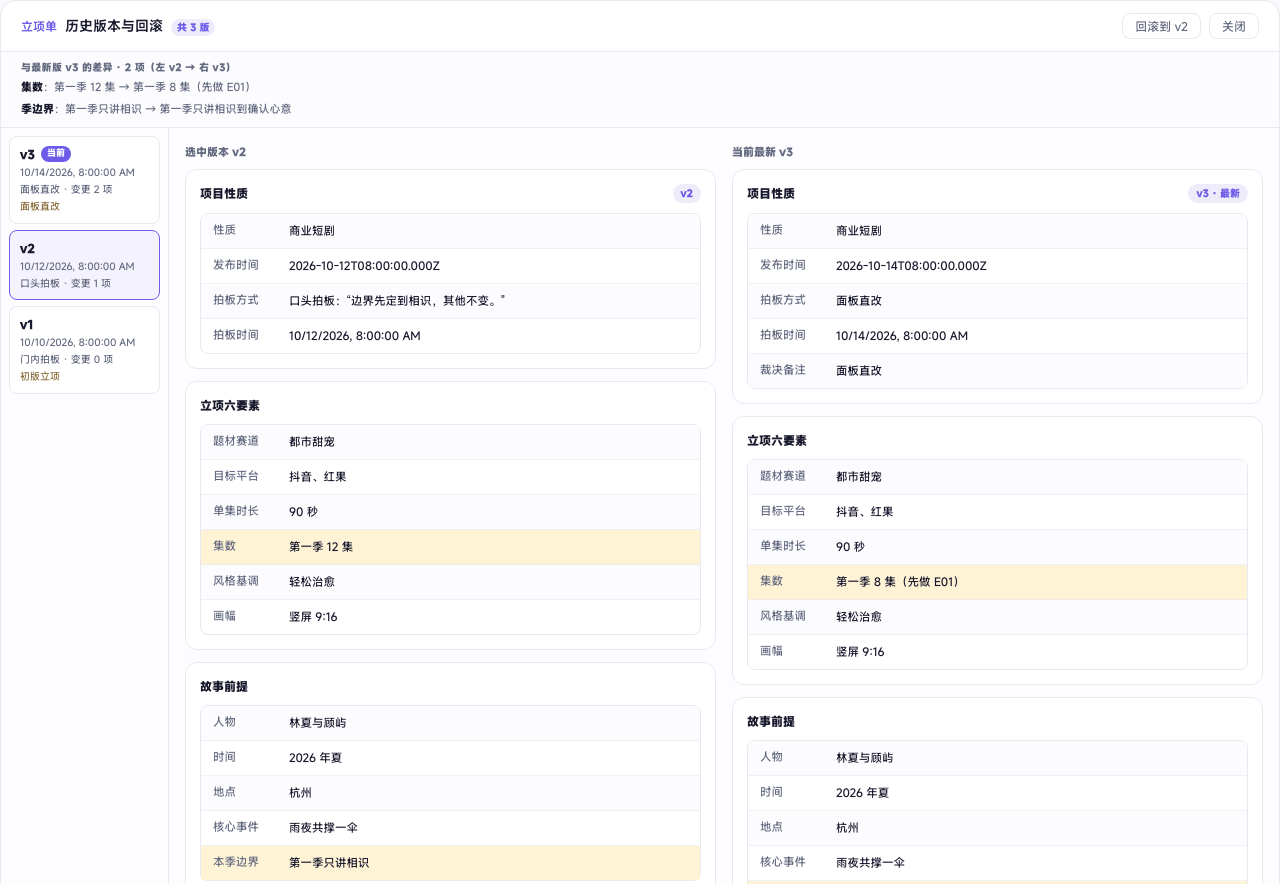
Test case: BriefHistoryView · 回滚（AC7） › 确认回滚 → 发新版 v4：notice、列表四版置顶、选中新版即最新
The width and height of the screenshot is (1280, 884).
Click the button with test id "brief-history-rollback". click: (1162, 26)
box: [1122,13,1201,39]
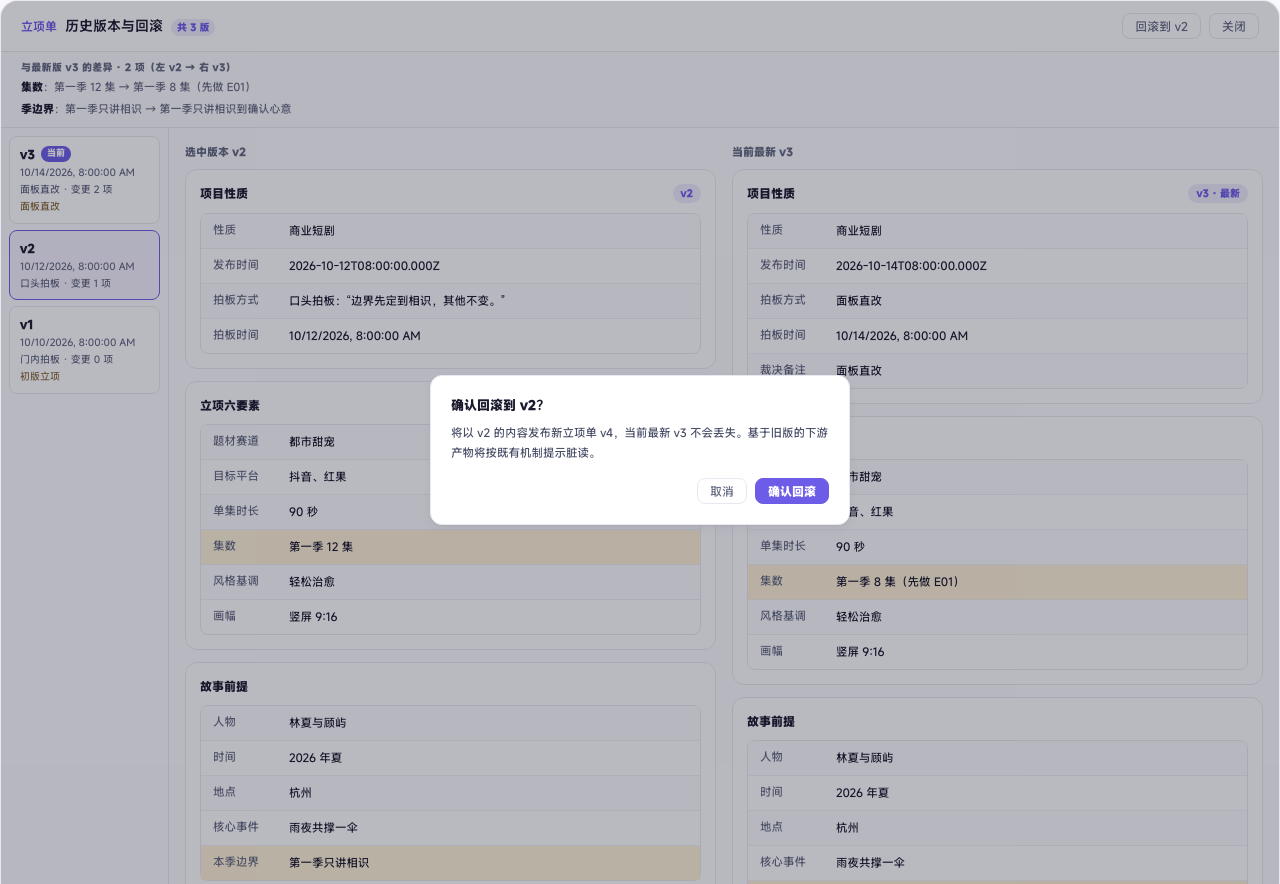
Expected: the element with test id "brief-history-rollback-confirm" is shown, [430,375,850,525]
Click the button "确认回滚". click: (792, 491)
box: [755,478,829,504]
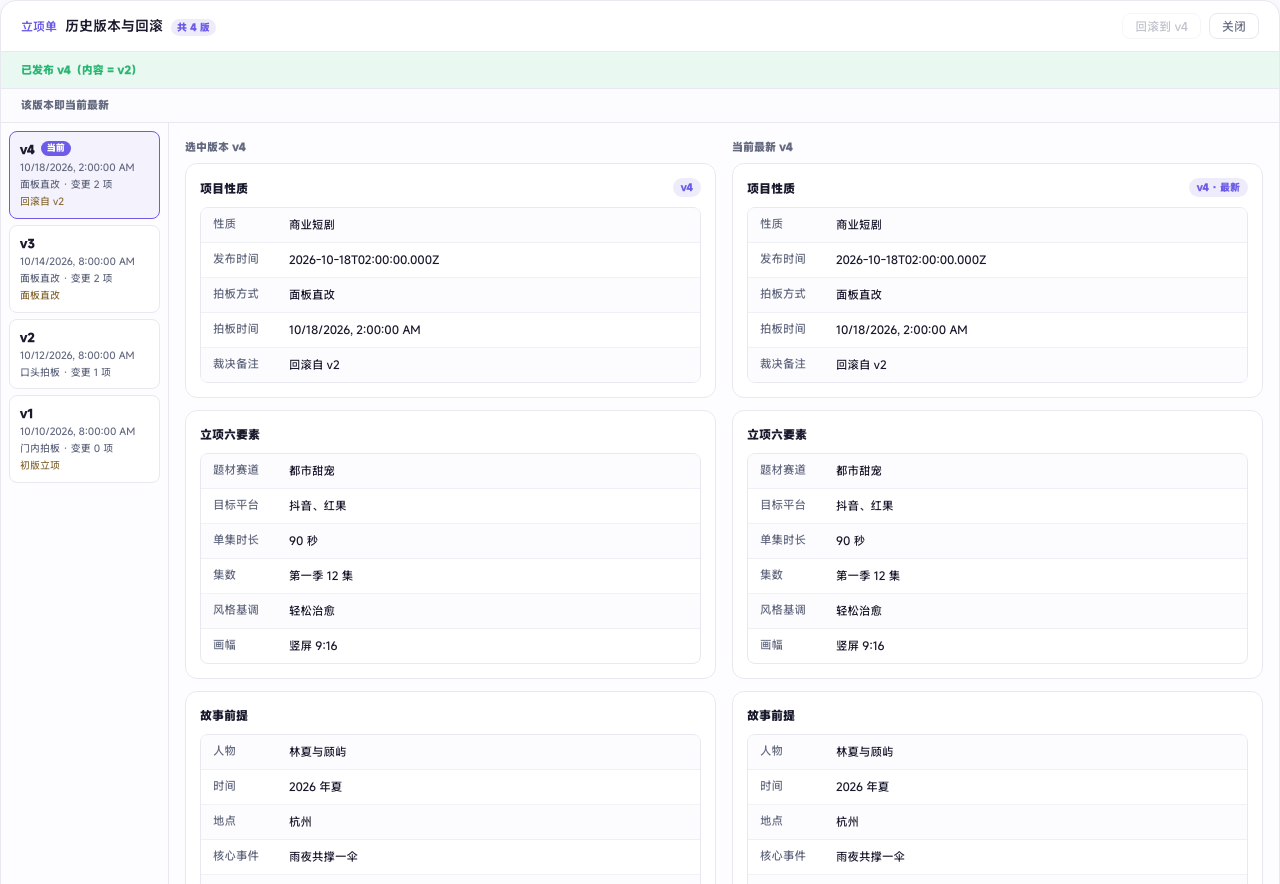
Expected: the text "已发布 v4（内容 = v2）" is shown, [1,52,1279,89]
Expected: the text "该版本即当前最新" is shown, [21,98,109,112]
Expected: the button with test id "brief-history-rollback" is disabled, [1122,13,1201,39]
